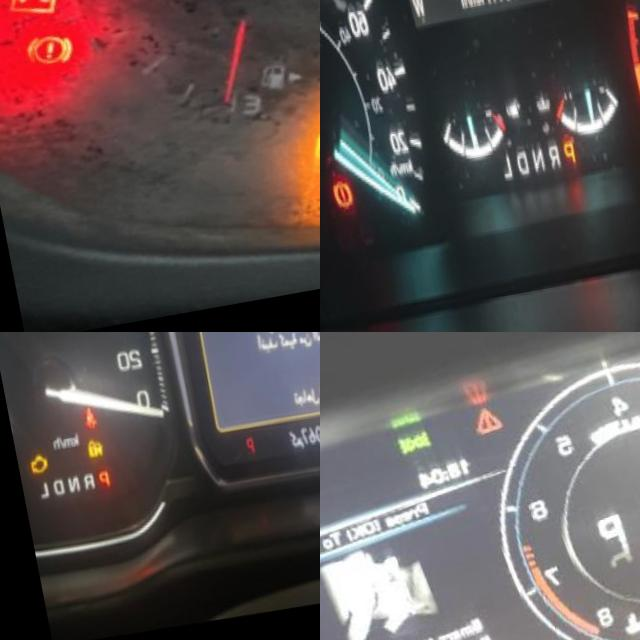Engine cooling system: (602, 622, 636, 640)
security: (67, 437, 87, 464)
